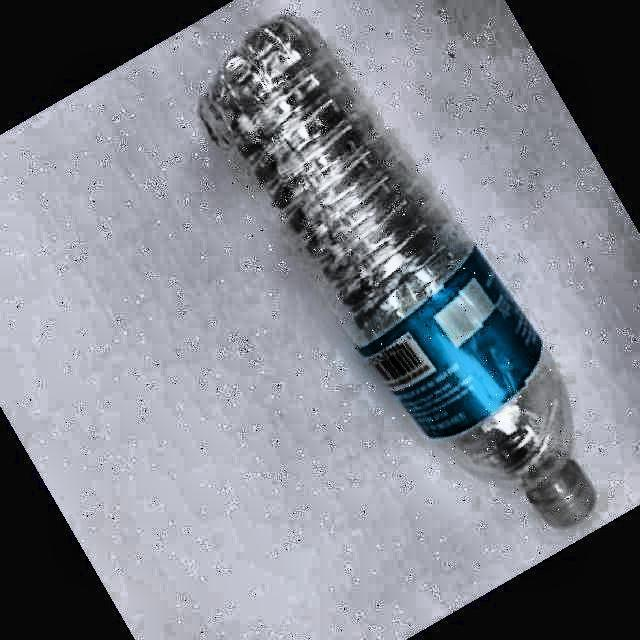plastic: (200, 16, 595, 526)
